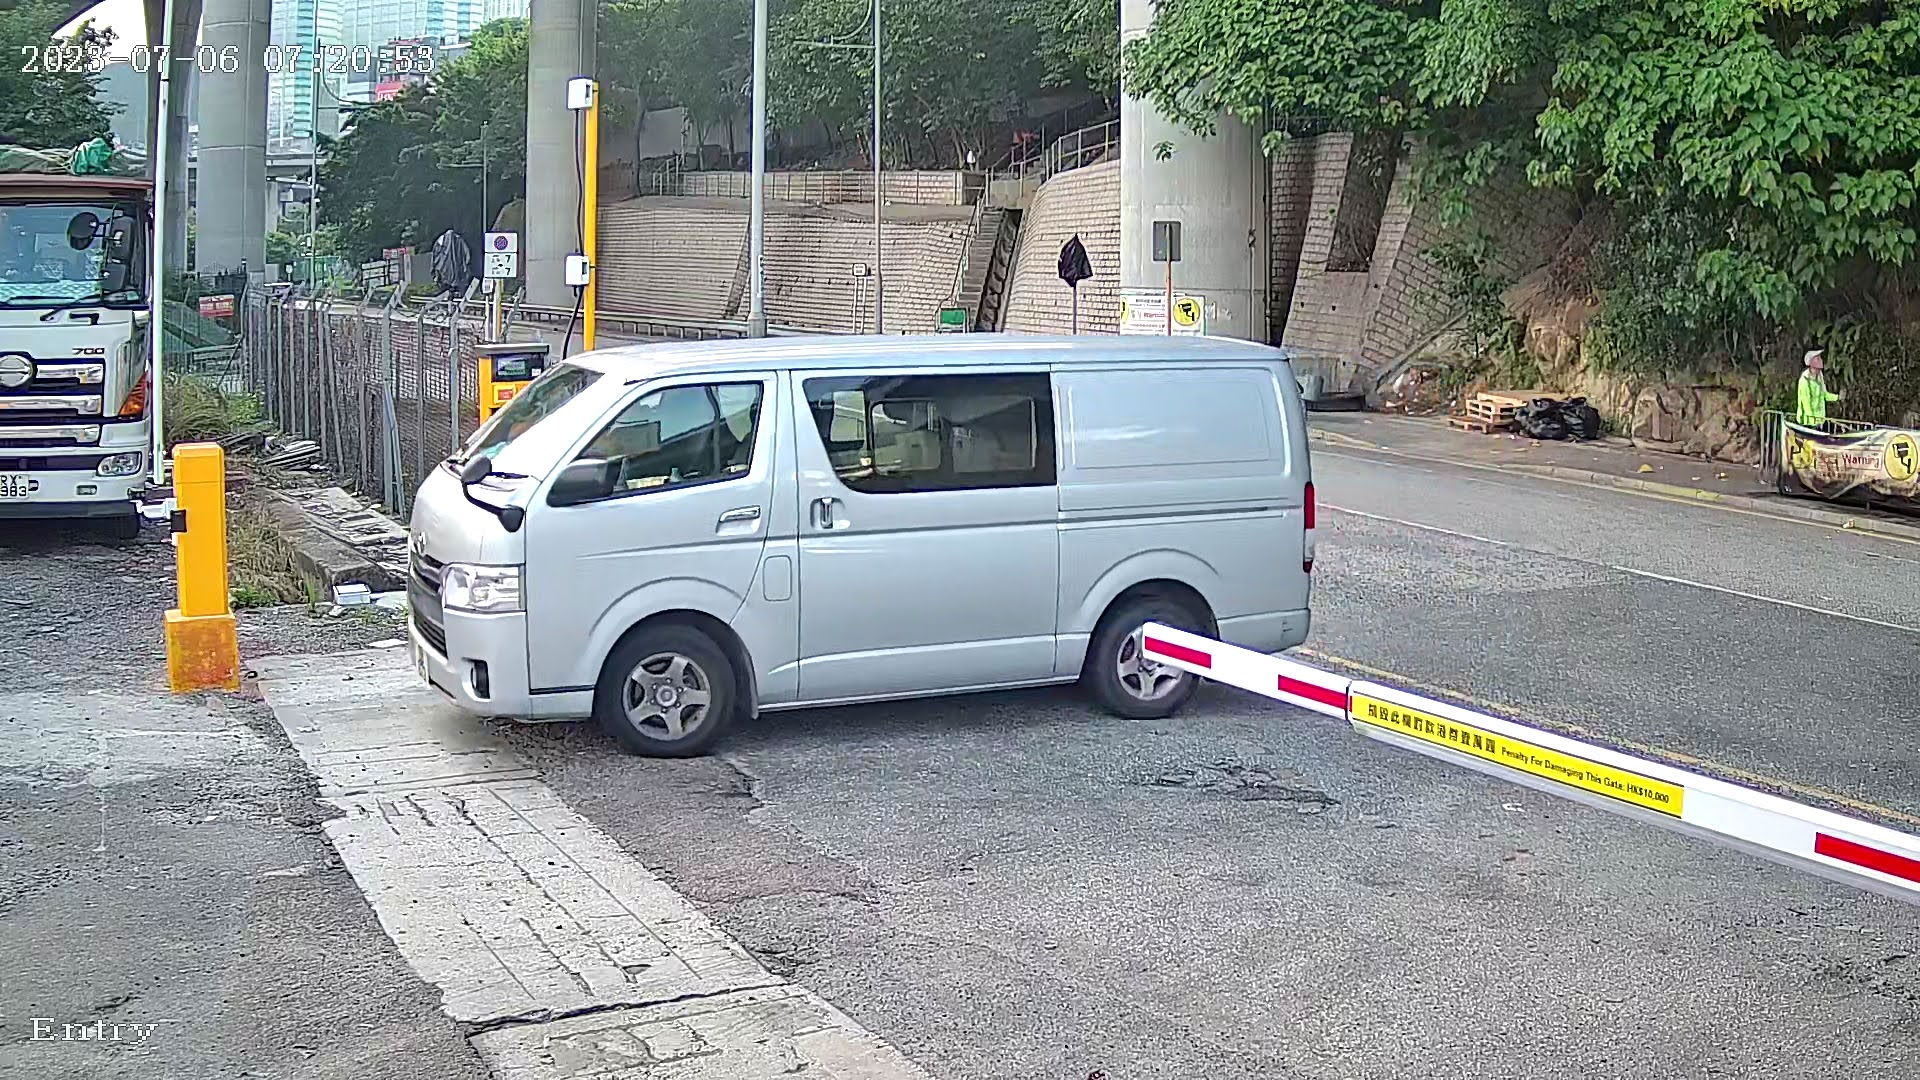privatecar: (336, 302, 1361, 777)
